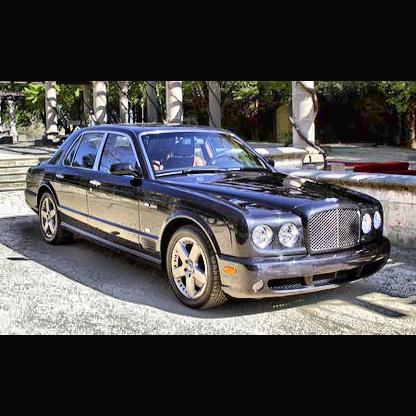Bentley Arnage Sedan 2009: (26, 123, 394, 312)
